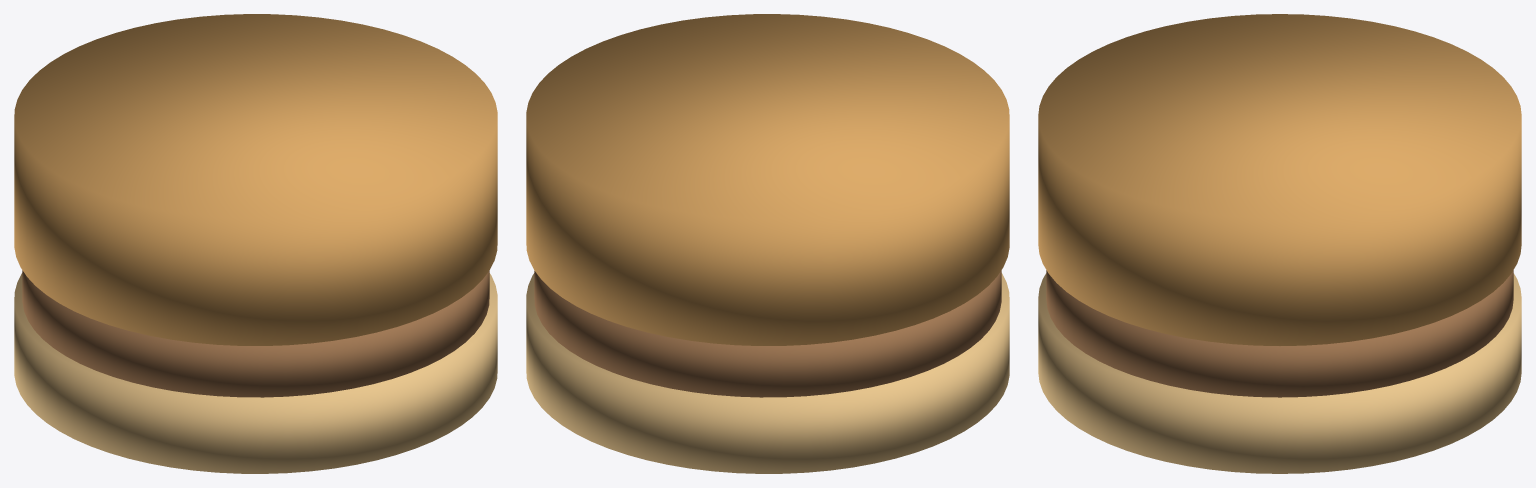
Rendered from sample.glb.
3 views of the same model, side by side, from view 1: azimuth 30°, elevation 25°; view 2: azimuth 150°, elevation 25°; view 3: azimuth 270°, elevation 25° (orthographic).
Parts seen in each view (by area): view 1: top, base, middle; view 2: top, base, middle; view 3: top, base, middle.
Boxes of the visible parts, box(x1,y1,x2,y2) form: top: box(14, 14, 497, 345); base: box(14, 273, 497, 473); middle: box(22, 270, 489, 397); top: box(526, 14, 1009, 345); base: box(526, 273, 1009, 473); middle: box(534, 270, 1001, 397); top: box(1038, 14, 1521, 345); base: box(1038, 273, 1521, 473); middle: box(1046, 270, 1513, 397).
Size of the model in its own units: 0.12 by 0.07 by 0.12.
